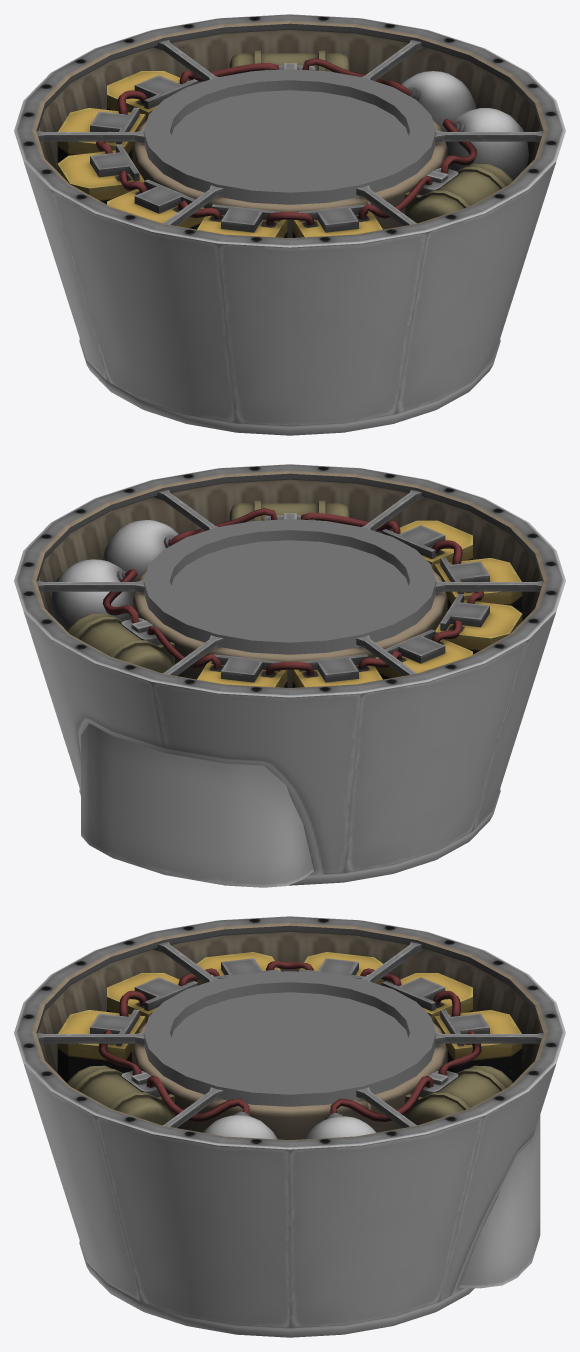
Rendered from MiniLab_Adapter.fbx.
3 renders of one model, top to bottom at view 1: azimuth 30°, elevation 25°; view 2: azimuth 150°, elevation 25°; view 3: azimuth 270°, elevation 25°, orthographic.
Parts seen in each view (by area): view 1: MercuryLab_AdapterSection_Merged, Endcap; view 2: MercuryLab_AdapterSection_Merged, Endcap; view 3: MercuryLab_AdapterSection_Merged, Endcap.
Boxes of the visible parts, x1=… form: MercuryLab_AdapterSection_Merged: x1=14, y1=14, x2=565, y2=435; Endcap: x1=99, y1=69, x2=480, y2=435; MercuryLab_AdapterSection_Merged: x1=14, y1=464, x2=565, y2=887; Endcap: x1=143, y1=519, x2=477, y2=834; MercuryLab_AdapterSection_Merged: x1=14, y1=916, x2=565, y2=1337; Endcap: x1=99, y1=971, x2=436, y2=1337.
Size of what is drawn, in the model's own units: 1.25 by 0.548 by 1.25.
Materials: 2 (1 with a texture image).
